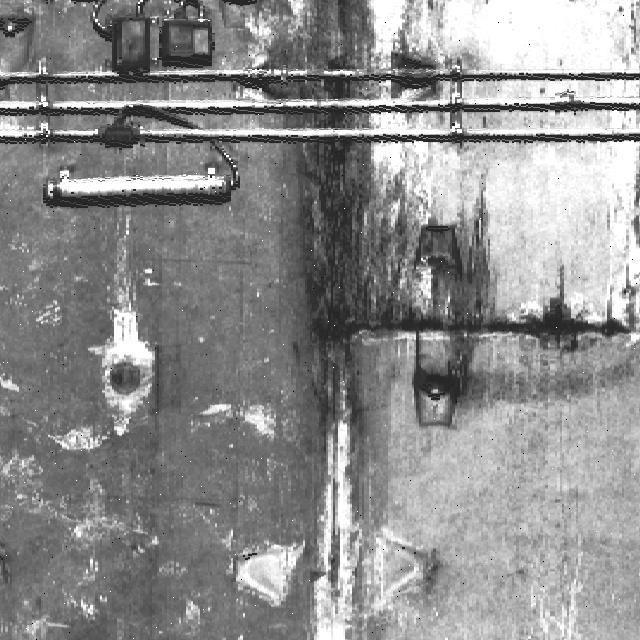leakage: (244, 1, 413, 639), (417, 188, 639, 389)
